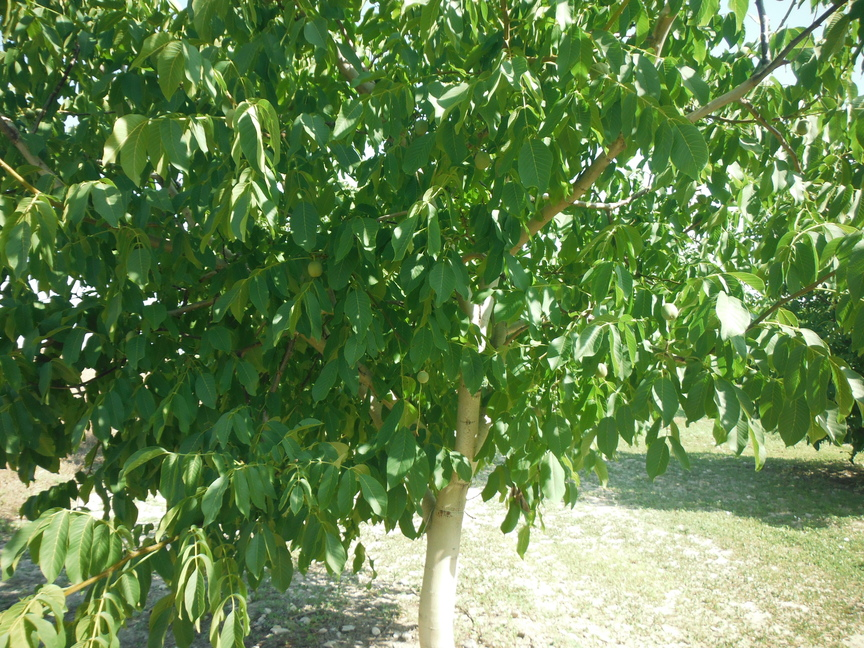walnut: (469, 143, 497, 174), (221, 102, 245, 137), (301, 255, 329, 281), (587, 58, 613, 85), (791, 114, 818, 139), (658, 299, 682, 324), (411, 113, 431, 140), (413, 366, 434, 389), (121, 327, 143, 348), (590, 360, 611, 379), (694, 191, 710, 209)
